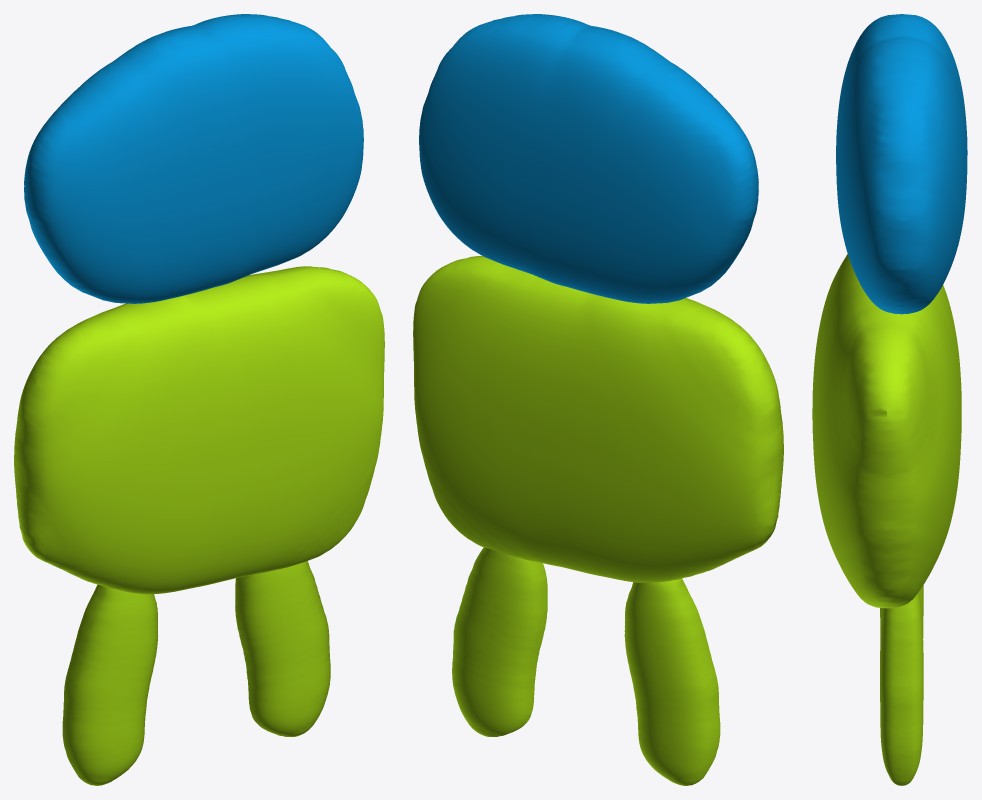
File: Ukko.fbx
3 views of the same model, side by side, from view 1: azimuth 30°, elevation 25°; view 2: azimuth 150°, elevation 25°; view 3: azimuth 270°, elevation 25° (orthographic). The views are drawn at different scales.
Parts seen in each view (by area): view 1: root (×4); view 2: root (×4); view 3: root (×3).
Boxes of the visible parts, x1,y1,x2,y2 form: root (×4): (14,14,384,785); root (×4): (413,14,783,785); root (×3): (812,14,967,785).
Bounding box in the file's own units: 0.2427 × 0.4771 × 0.0946.
4 materials, 4 textured.
